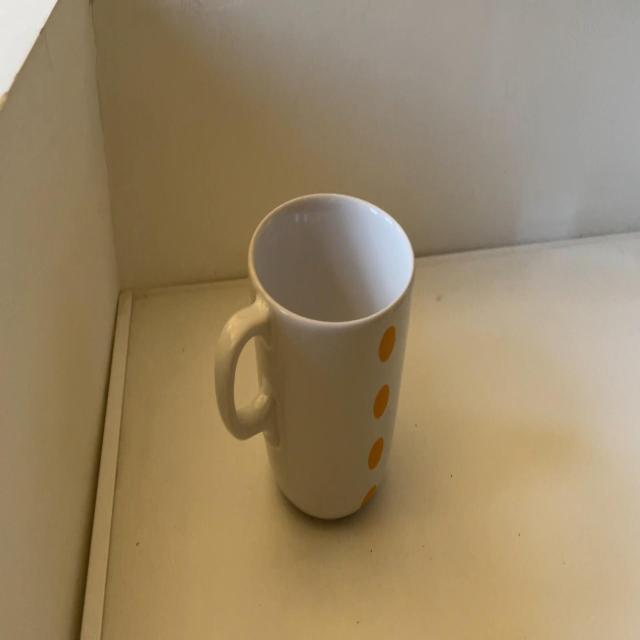cup: (209, 191, 421, 528)
